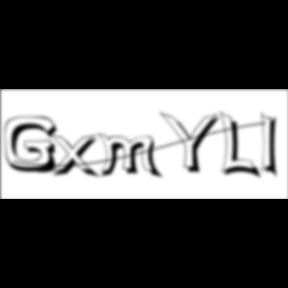G: (4, 116, 64, 176)
I: (261, 110, 285, 182)
L: (220, 110, 264, 182)
Y: (160, 110, 226, 176)
m: (97, 132, 165, 181)
x: (48, 132, 104, 181)
